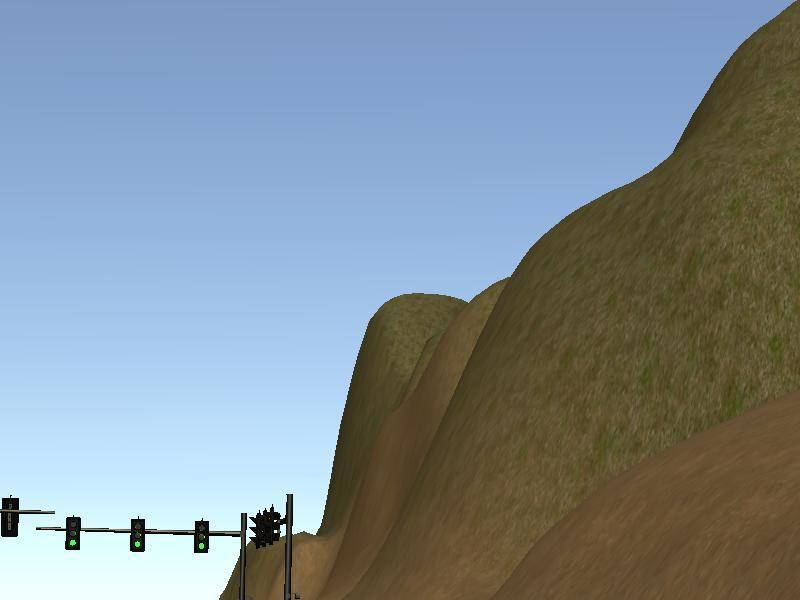Green: (193, 520, 209, 553), (130, 519, 146, 552), (65, 517, 81, 550)
